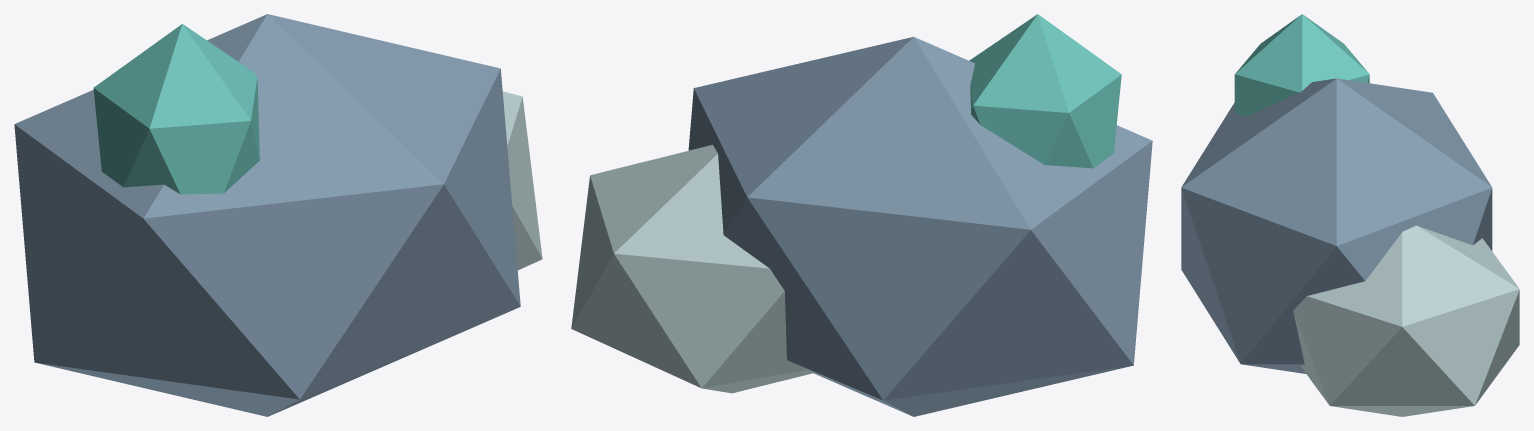
File: ore.glb
The picture shows the model from 3 angles, left to right: view 1: azimuth 30°, elevation 25°; view 2: azimuth 150°, elevation 25°; view 3: azimuth 270°, elevation 25°; orthographic projection. The views are drawn at different scales.
Parts seen in each view (by area): view 1: Boulder, Boulder.002, Boulder.001; view 2: Boulder, Boulder.001, Boulder.002; view 3: Boulder, Boulder.001, Boulder.002.
Part boxes in pixels (x1=…): Boulder: x1=14, y1=14, x2=520, y2=416; Boulder.002: x1=93, y1=24, x2=259, y2=194; Boulder.001: x1=502, y1=91, x2=542, y2=270; Boulder: x1=688, y1=36, x2=1152, y2=416; Boulder.001: x1=571, y1=144, x2=813, y2=393; Boulder.002: x1=969, y1=14, x2=1121, y2=168; Boulder: x1=1181, y1=78, x2=1492, y2=373; Boulder.001: x1=1293, y1=225, x2=1519, y2=416; Boulder.002: x1=1234, y1=14, x2=1369, y2=116.
Bounding box in the file's own units: 1.33 × 1.04 × 0.9811.
